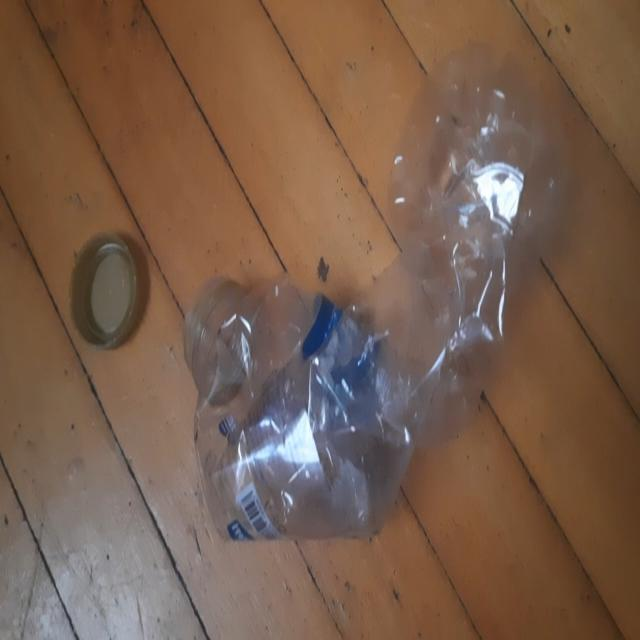Plastic: (185, 40, 535, 542), (214, 287, 371, 535), (69, 233, 149, 352), (185, 279, 244, 389)
